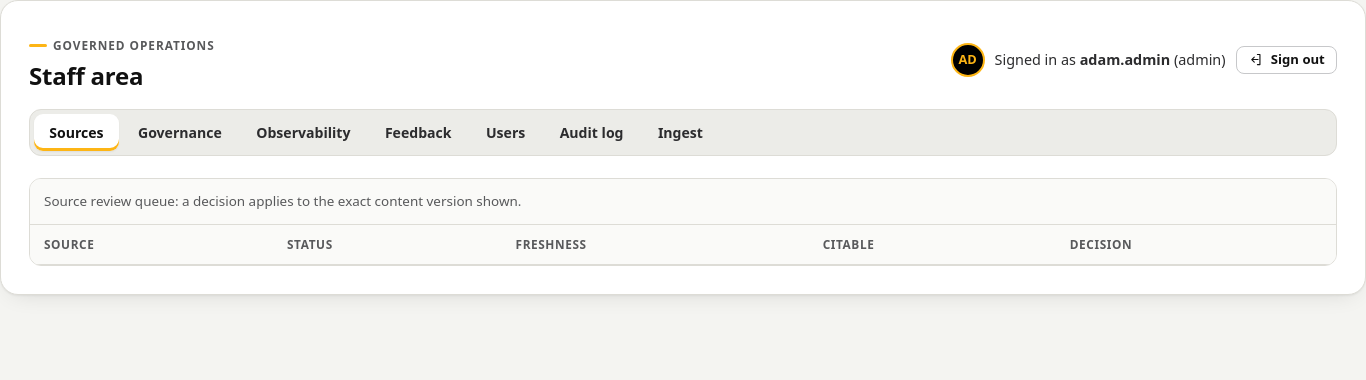
Test: StaffView › admin sees administrative tabs; sign-out returns to the login form
Click the button "Sign out": (1286, 60) [1236,46,1337,74]
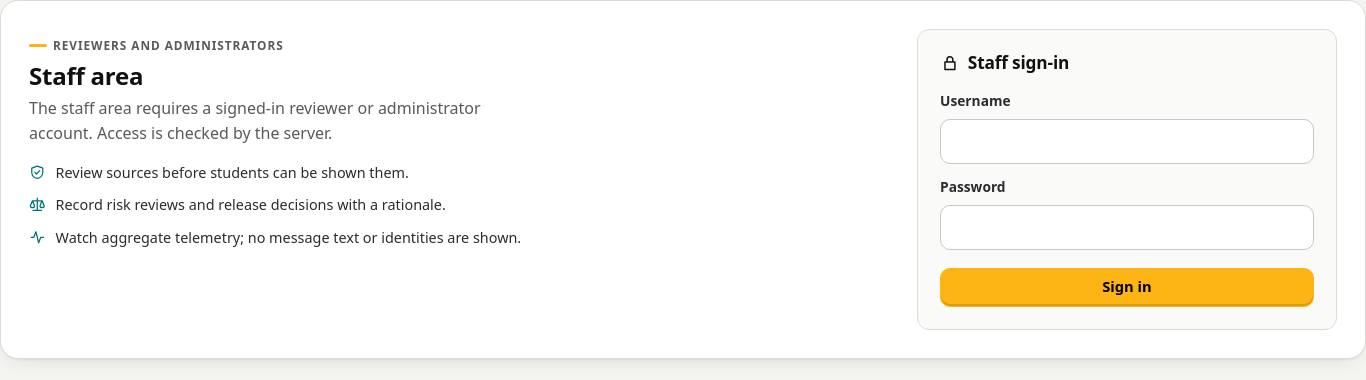
Result: the heading "Staff sign-in" is shown at [940,51,1069,74]
